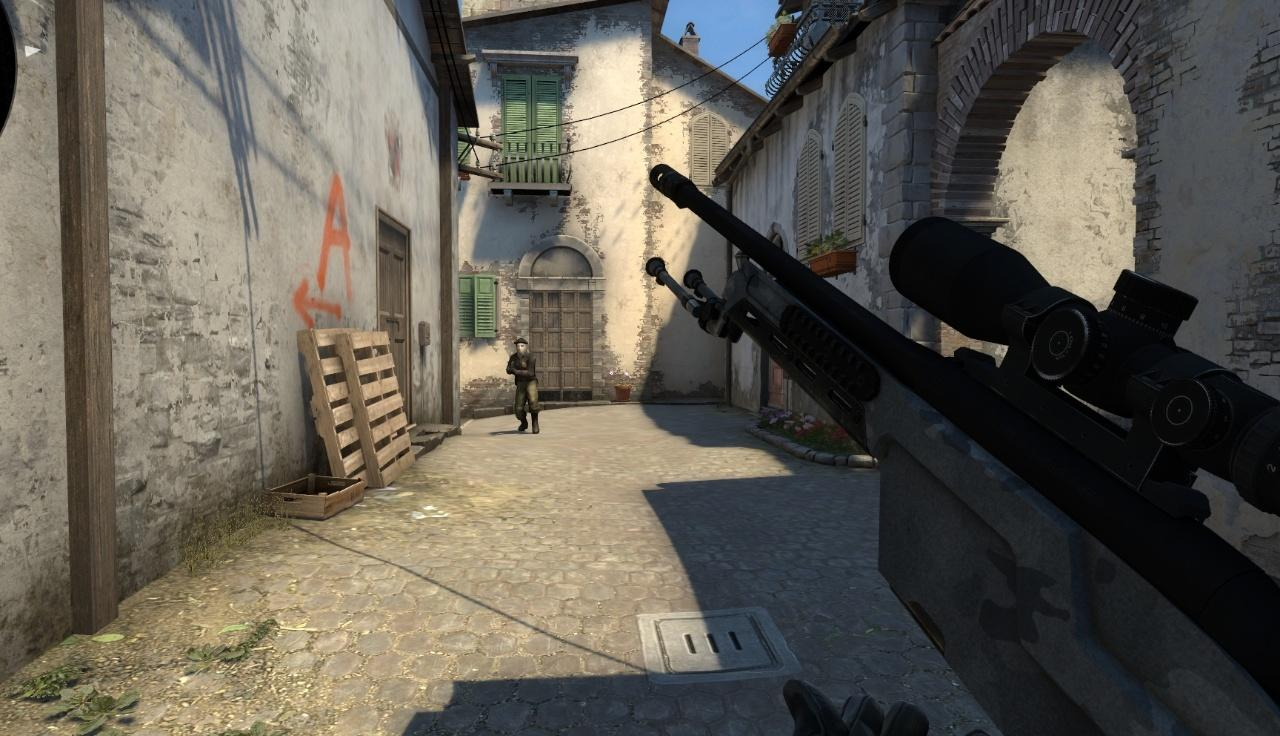sniper: (646, 161, 1280, 736)
tt: (506, 337, 541, 435)
tthead: (513, 338, 529, 354)
